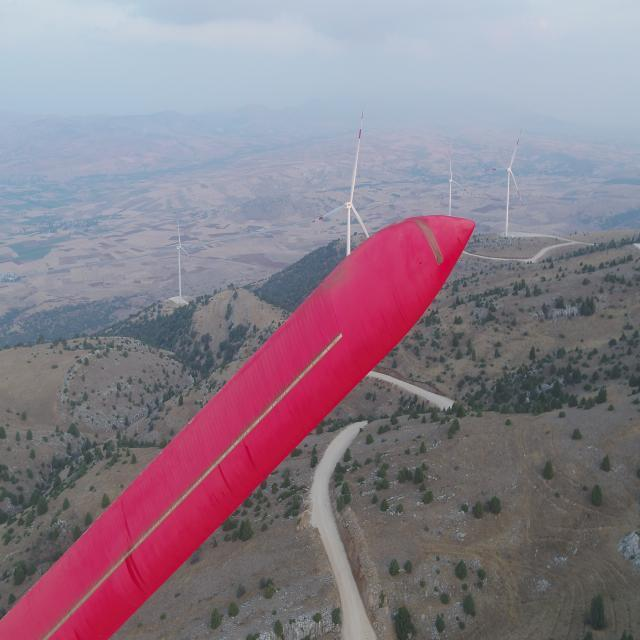Burn Mark: (414, 218, 450, 269)
